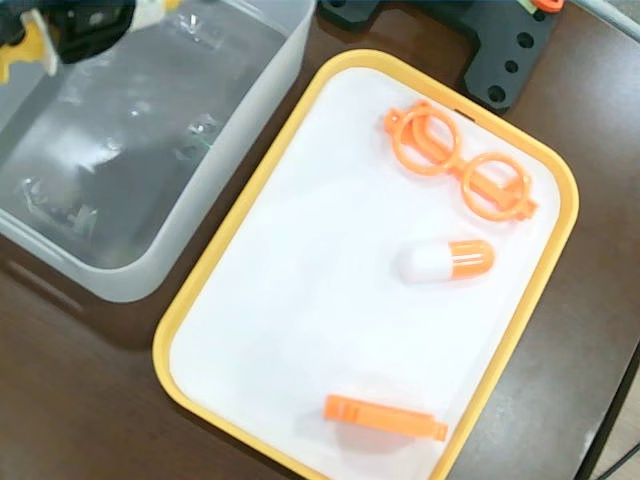pill: (396, 237, 495, 284)
